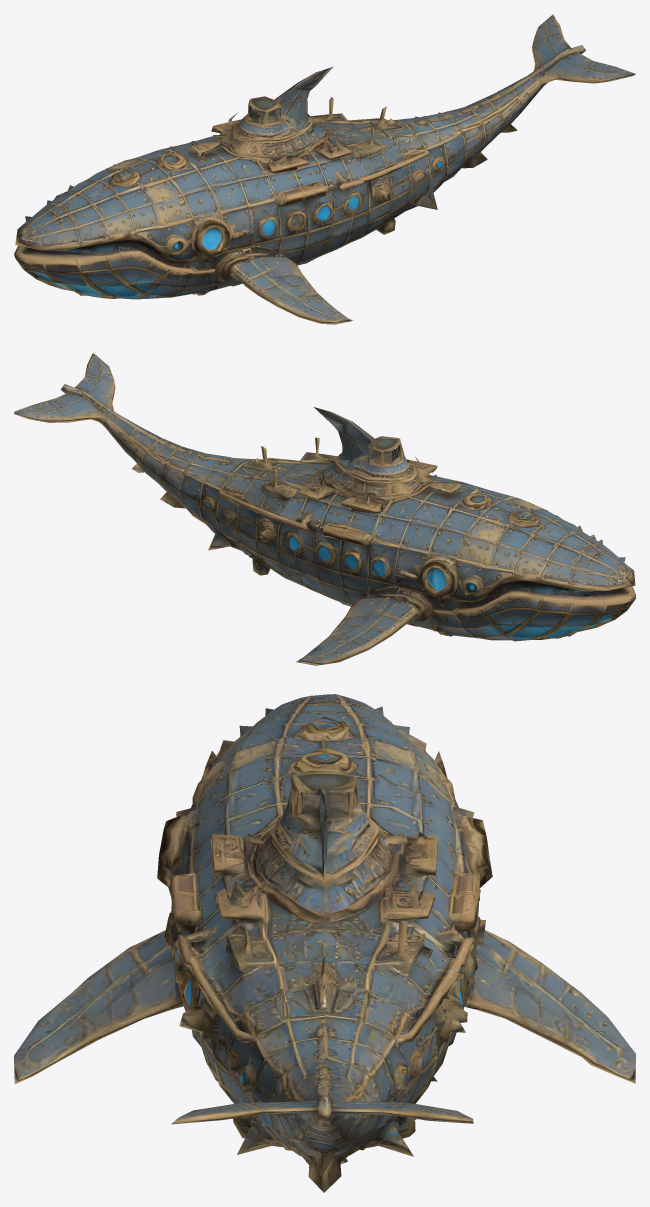
Rendered from amethyst.obj.
3 renders of one model, top to bottom at view 1: azimuth 30°, elevation 25°; view 2: azimuth 150°, elevation 25°; view 3: azimuth 270°, elevation 25°, orthographic. The views are drawn at different scales.
Parts seen in each view (by area): view 1: tripo_node_ae7afd8b-3f1f-44a1-9e99-bfbfec2a5efe; view 2: tripo_node_ae7afd8b-3f1f-44a1-9e99-bfbfec2a5efe; view 3: tripo_node_ae7afd8b-3f1f-44a1-9e99-bfbfec2a5efe.
Boxes of the visible parts, x1,y1,x2,y2 form: tripo_node_ae7afd8b-3f1f-44a1-9e99-bfbfec2a5efe: [14, 14, 635, 324]; tripo_node_ae7afd8b-3f1f-44a1-9e99-bfbfec2a5efe: [14, 353, 635, 665]; tripo_node_ae7afd8b-3f1f-44a1-9e99-bfbfec2a5efe: [14, 694, 635, 1192].
Bounding box in the file's own units: 1 × 0.3156 × 0.4954.
1 material, 1 textured.
